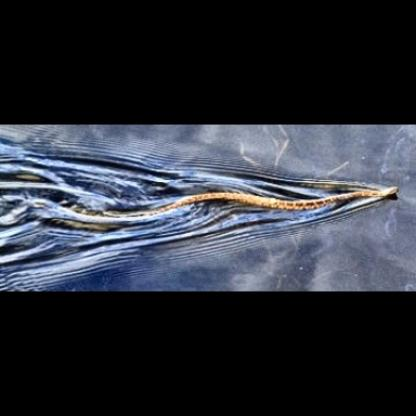Snake: (110, 180, 407, 222)
